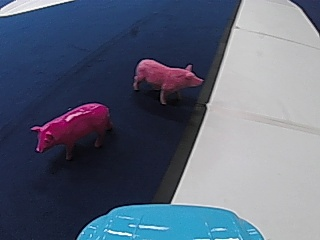pig: (28, 98, 115, 157), (129, 56, 202, 103)
